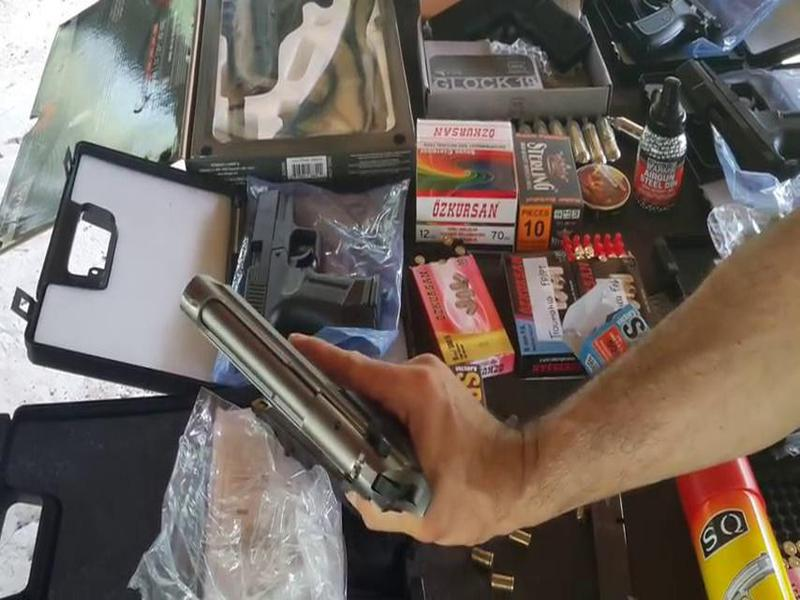Pistola: (161, 268, 438, 498)
